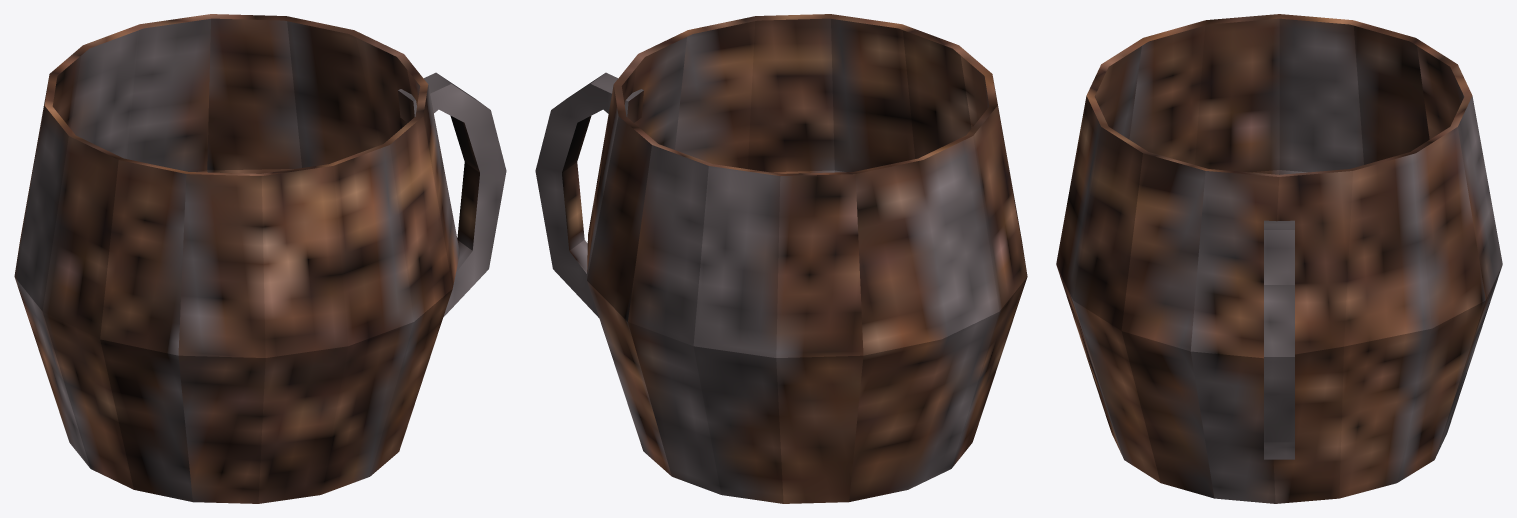
File: mug.fbx
The picture shows the model from 3 angles, left to right: view 1: azimuth 30°, elevation 25°; view 2: azimuth 150°, elevation 25°; view 3: azimuth 270°, elevation 25°; orthographic projection.
Visible parts, largest first — view 1: mug; view 2: mug; view 3: mug.
Boxes of the visible parts, x1,y1,x2,y2 form: mug: [14, 14, 506, 503]; mug: [535, 14, 1027, 503]; mug: [1056, 14, 1502, 503].
Size of the model in its own units: 16.46 by 11.67 by 13.99.
